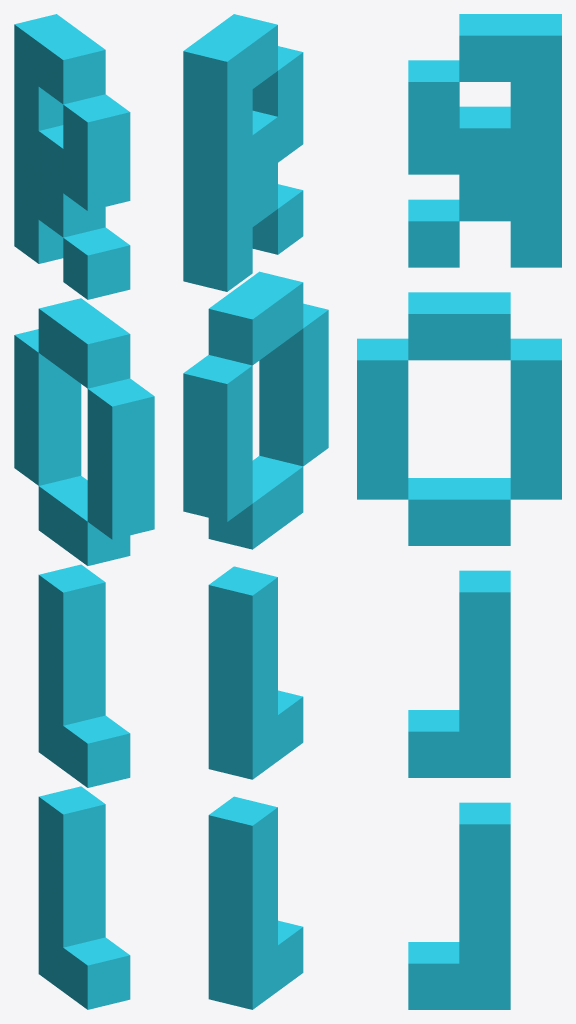
Rendered from House-1.obj.
3 renders of one model, left to right at view 1: azimuth 30°, elevation 25°; view 2: azimuth 150°, elevation 25°; view 3: azimuth 270°, elevation 25°, orthographic. The views are drawn at different scales.
Bounding box in the file's own units: 0.1 × 2.1 × 0.4.
